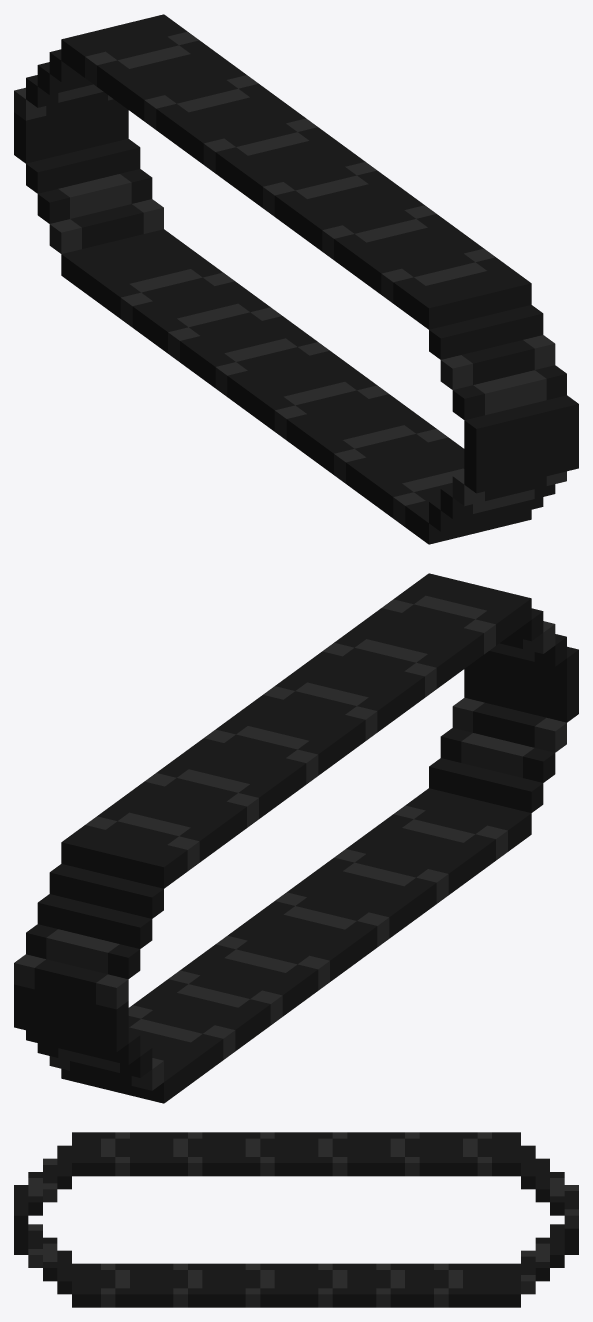
The model's file is Tank-5.obj.
3 renders of one model, top to bottom at view 1: azimuth 30°, elevation 25°; view 2: azimuth 150°, elevation 25°; view 3: azimuth 270°, elevation 25°, orthographic. The views are drawn at different scales.
Size of the model in its own units: 0.5 by 1.1 by 3.9.
Materials: 1 (1 with a texture image).
